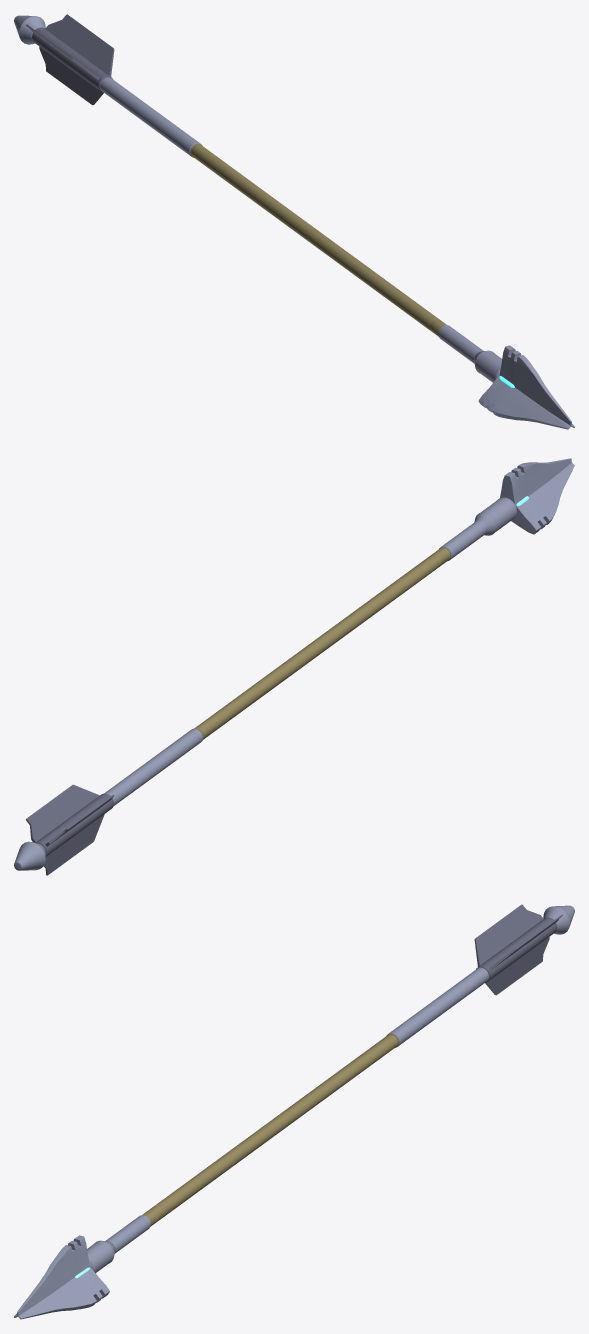
File: arrowSC.glb
3 renders of one model, top to bottom at view 1: azimuth 30°, elevation 25°; view 2: azimuth 150°, elevation 25°; view 3: azimuth 330°, elevation 25°, orthographic.
Parts seen in each view (by area): view 1: pCylinder1, polySurface4, polySurface1, pCylinder2, pCylinder5, polySurface2, pCylinder3, pCylinder4, pCylinder6; view 2: pCylinder1, polySurface4, polySurface1, pCylinder2, pCylinder5, polySurface2, pCylinder4, pCylinder6, pCylinder3; view 3: pCylinder1, polySurface4, polySurface1, pCylinder2, pCylinder5, polySurface2, pCylinder3, pCylinder4, pCylinder6.
Part boxes in pixels (x1=…): pCylinder1: x1=190, y1=143, x2=446, y2=336; polySurface4: x1=478, y1=345, x2=574, y2=429; polySurface1: x1=26, y1=14, x2=114, y2=79; pCylinder2: x1=100, y1=77, x2=201, y2=157; pCylinder5: x1=32, y1=27, x2=112, y2=92; polySurface2: x1=39, y1=46, x2=103, y2=105; pCylinder3: x1=438, y1=325, x2=483, y2=363; pCylinder4: x1=474, y1=350, x2=502, y2=382; pCylinder6: x1=14, y1=15, x2=45, y2=44; pCylinder1: x1=194, y1=547, x2=450, y2=740; polySurface4: x1=500, y1=458, x2=574, y2=534; polySurface1: x1=26, y1=784, x2=114, y2=846; pCylinder2: x1=104, y1=728, x2=202, y2=806; pCylinder5: x1=35, y1=793, x2=113, y2=856; polySurface2: x1=43, y1=814, x2=104, y2=875; pCylinder4: x1=474, y1=497, x2=516, y2=535; pCylinder6: x1=14, y1=841, x2=45, y2=870; pCylinder3: x1=439, y1=520, x2=487, y2=560; pCylinder1: x1=142, y1=1033, x2=398, y2=1226; polySurface4: x1=14, y1=1235, x2=109, y2=1319; polySurface1: x1=474, y1=904, x2=562, y2=969; pCylinder2: x1=387, y1=967, x2=488, y2=1046; pCylinder5: x1=476, y1=917, x2=556, y2=982; polySurface2: x1=485, y1=937, x2=549, y2=995; pCylinder3: x1=106, y1=1215, x2=150, y2=1253; pCylinder4: x1=87, y1=1240, x2=115, y2=1272; pCylinder6: x1=543, y1=905, x2=574, y2=934.
Bounding box in the file's own units: 0.0772 × 0.0802 × 1.29.
